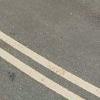Crosswalk: (7, 34, 83, 99)
